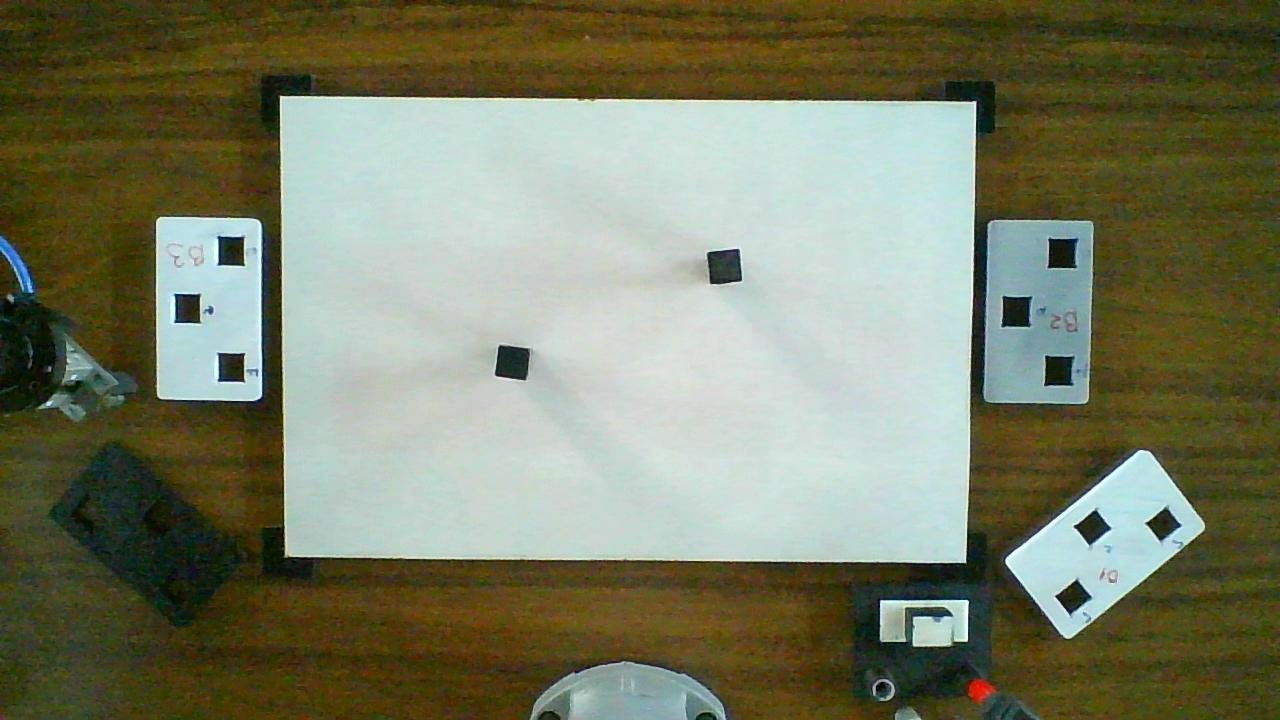peca_preta: (496, 346, 530, 380), (709, 251, 740, 282)
